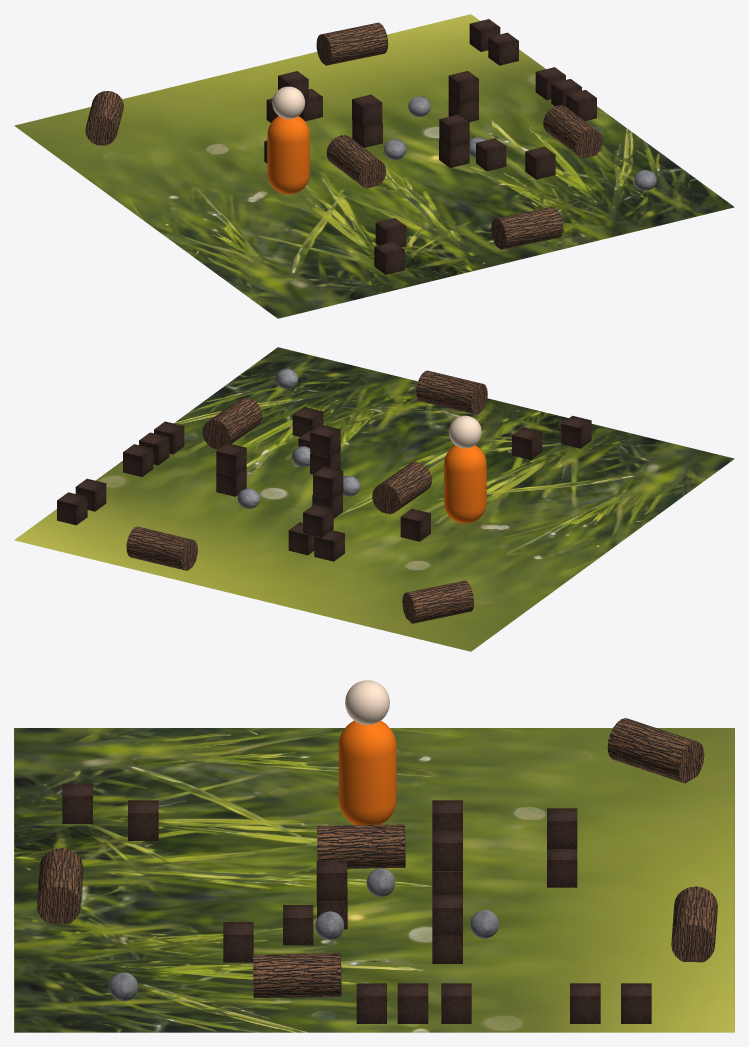
Rendered from woods.gltf.
The picture shows the model from 3 angles, top to bottom: view 1: azimuth 30°, elevation 25°; view 2: azimuth 150°, elevation 25°; view 3: azimuth 270°, elevation 25°; orthographic projection. The views are drawn at different scales.
Parts seen in each view (by area): view 1: Plane, Player, log 2, log 4, log, log 3, log 5, head, Cube (9), Cube, Cube (12), Cube (15) (+13 smaller); view 2: Plane, Player, log 5, log 2, log 4, log, log 3, head, Cube (14), Cube (8), Cube (4), Cube (9) (+12 smaller); view 3: Plane, Player, log 5, log 3, log, log 4, log 2, head, Cube (17), Cube (12), Cube, Cube (1) (+17 smaller).
Boxes of the visible parts, x1,y1,x2,y2 form: Plane: (14, 14, 734, 318); Player: (267, 116, 309, 194); log 2: (491, 206, 562, 249); log 4: (316, 22, 388, 65); log: (326, 135, 386, 188); log 3: (543, 105, 602, 158); log 5: (85, 91, 123, 145); head: (272, 86, 305, 118); Cube (9): (352, 94, 382, 127); Cube: (374, 242, 404, 274); Cube (12): (439, 114, 469, 147); Cube (15): (488, 32, 518, 65); Plane: (14, 347, 734, 651); Player: (444, 445, 486, 523); log 5: (402, 580, 473, 623); log 2: (416, 370, 487, 414); log 4: (126, 526, 197, 570); log: (372, 462, 431, 514); log 3: (202, 397, 262, 449); head: (449, 415, 481, 448); Cube (14): (57, 492, 87, 525); Cube (8): (303, 504, 333, 537); Cube (4): (216, 443, 246, 475); Cube (9): (313, 466, 343, 499); Plane: (14, 728, 734, 1032); Player: (338, 720, 396, 825); log 5: (607, 718, 704, 783); log 3: (253, 953, 341, 998); log: (317, 824, 405, 868); log 4: (671, 886, 717, 962); log 2: (37, 848, 83, 923); head: (345, 680, 389, 724); Cube (17): (397, 983, 428, 1023); Cube (12): (316, 860, 347, 900); Cube: (62, 783, 92, 823); Cube (1): (128, 800, 158, 840).
Size of the model in its own units: 16.44 by 3.6 by 16.44.
